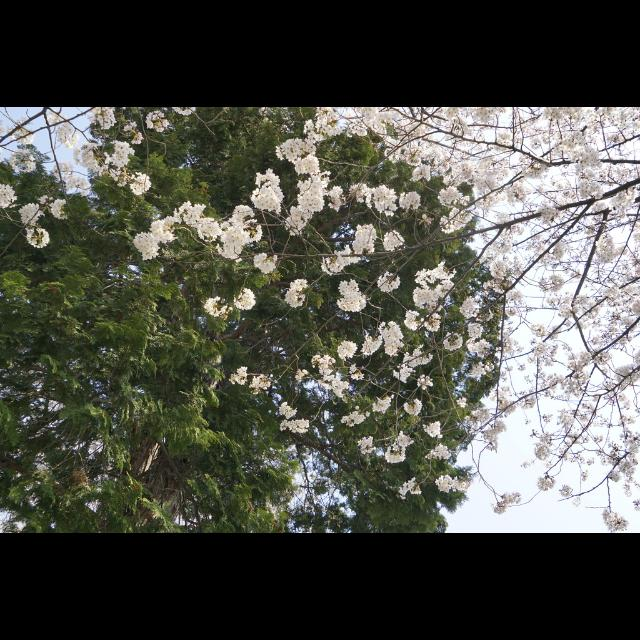Flower: (1, 107, 640, 533), (334, 281, 366, 313), (26, 227, 50, 250), (378, 272, 400, 292), (286, 286, 302, 310), (292, 280, 302, 290)
